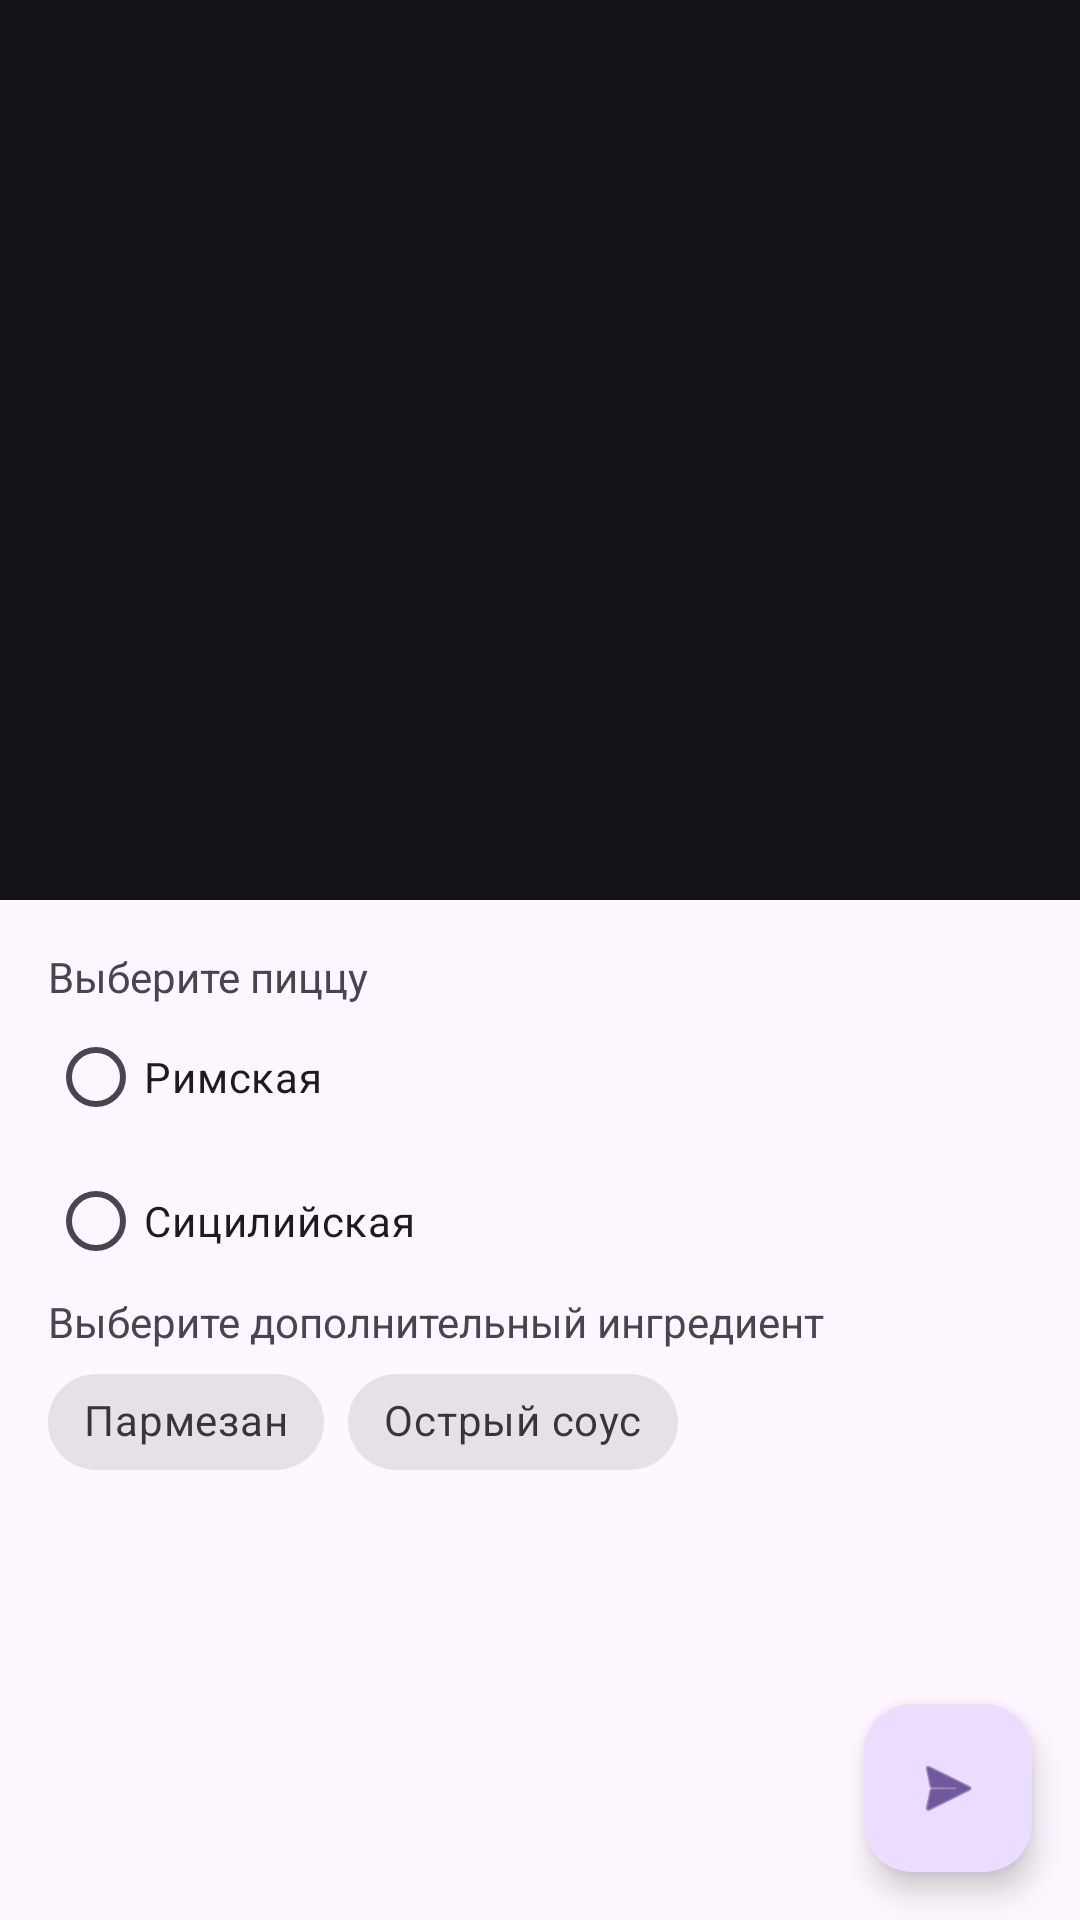

Icon click points for this 1080x1920 phone screenshot, format point (x, y):
send: point (948, 1788)
